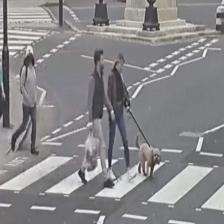person: (78, 49, 114, 188), (107, 52, 137, 181), (10, 44, 38, 155)
